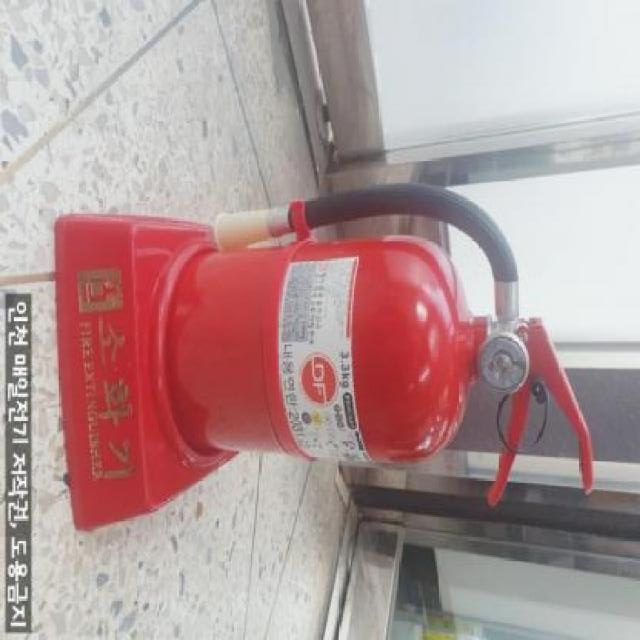fire extinguisher: (167, 181, 595, 508)
